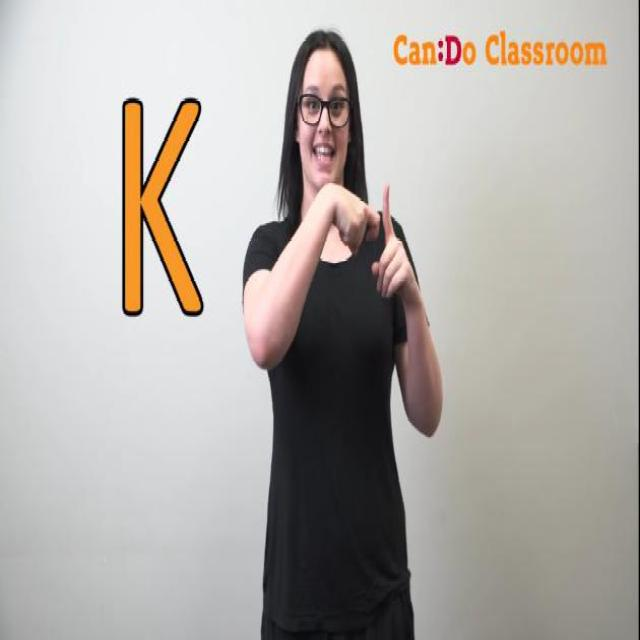K: (317, 181, 412, 343)
